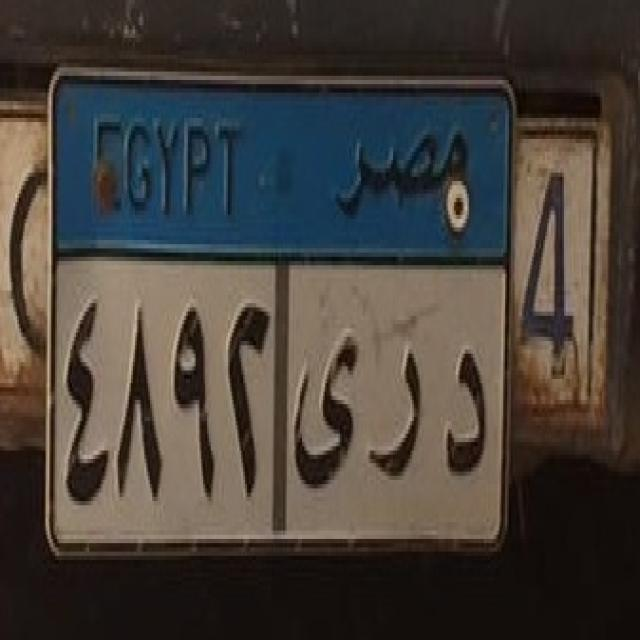2: (222, 294, 277, 508)
4: (61, 292, 114, 510)
8: (112, 302, 170, 515)
9: (168, 300, 220, 510)
R: (368, 327, 430, 486)
Yeeh: (291, 320, 364, 496)
daal: (438, 332, 496, 484)
